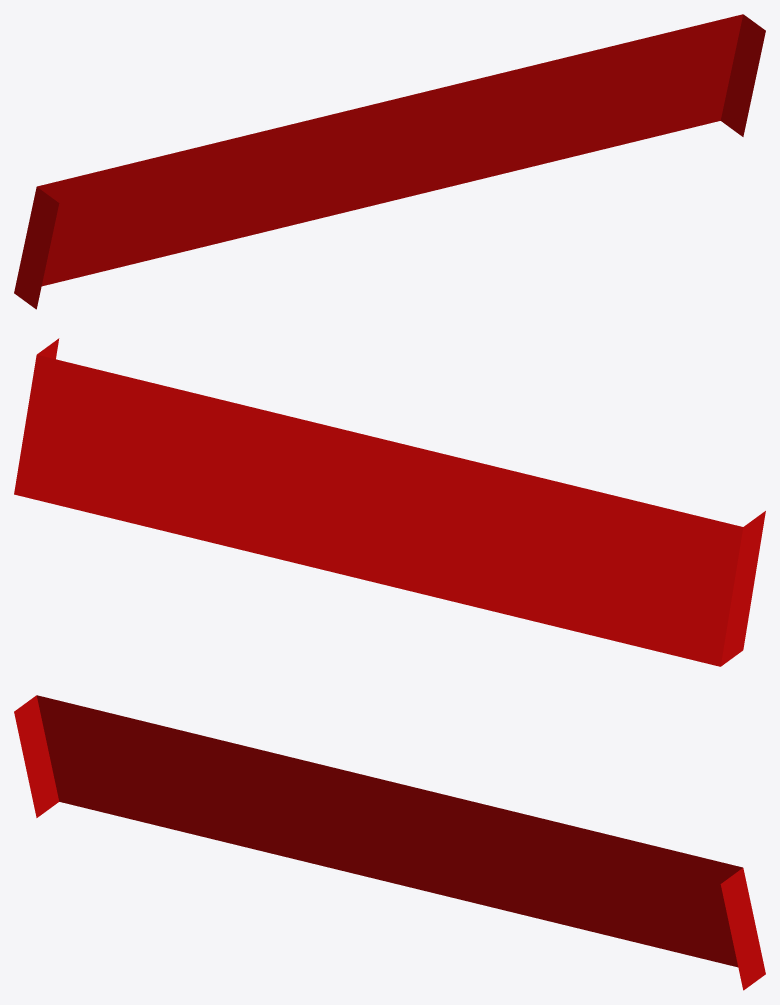
File: Transak_UI_z_2_mm_B1.glb
3 renders of one model, top to bottom at view 1: azimuth 30°, elevation 25°; view 2: azimuth 150°, elevation 25°; view 3: azimuth 330°, elevation 25°, orthographic.
Visible parts, largest first — view 1: Button_BuyCrypto_; view 2: Button_BuyCrypto_; view 3: Button_BuyCrypto_.
Part boxes in pixels (x1,y1,x2,y2): Button_BuyCrypto_: (14,14,765,309); Button_BuyCrypto_: (14,338,765,666); Button_BuyCrypto_: (14,695,765,990).
Bounding box in the file's own units: 0.54 × 0.09 × 0.06.
